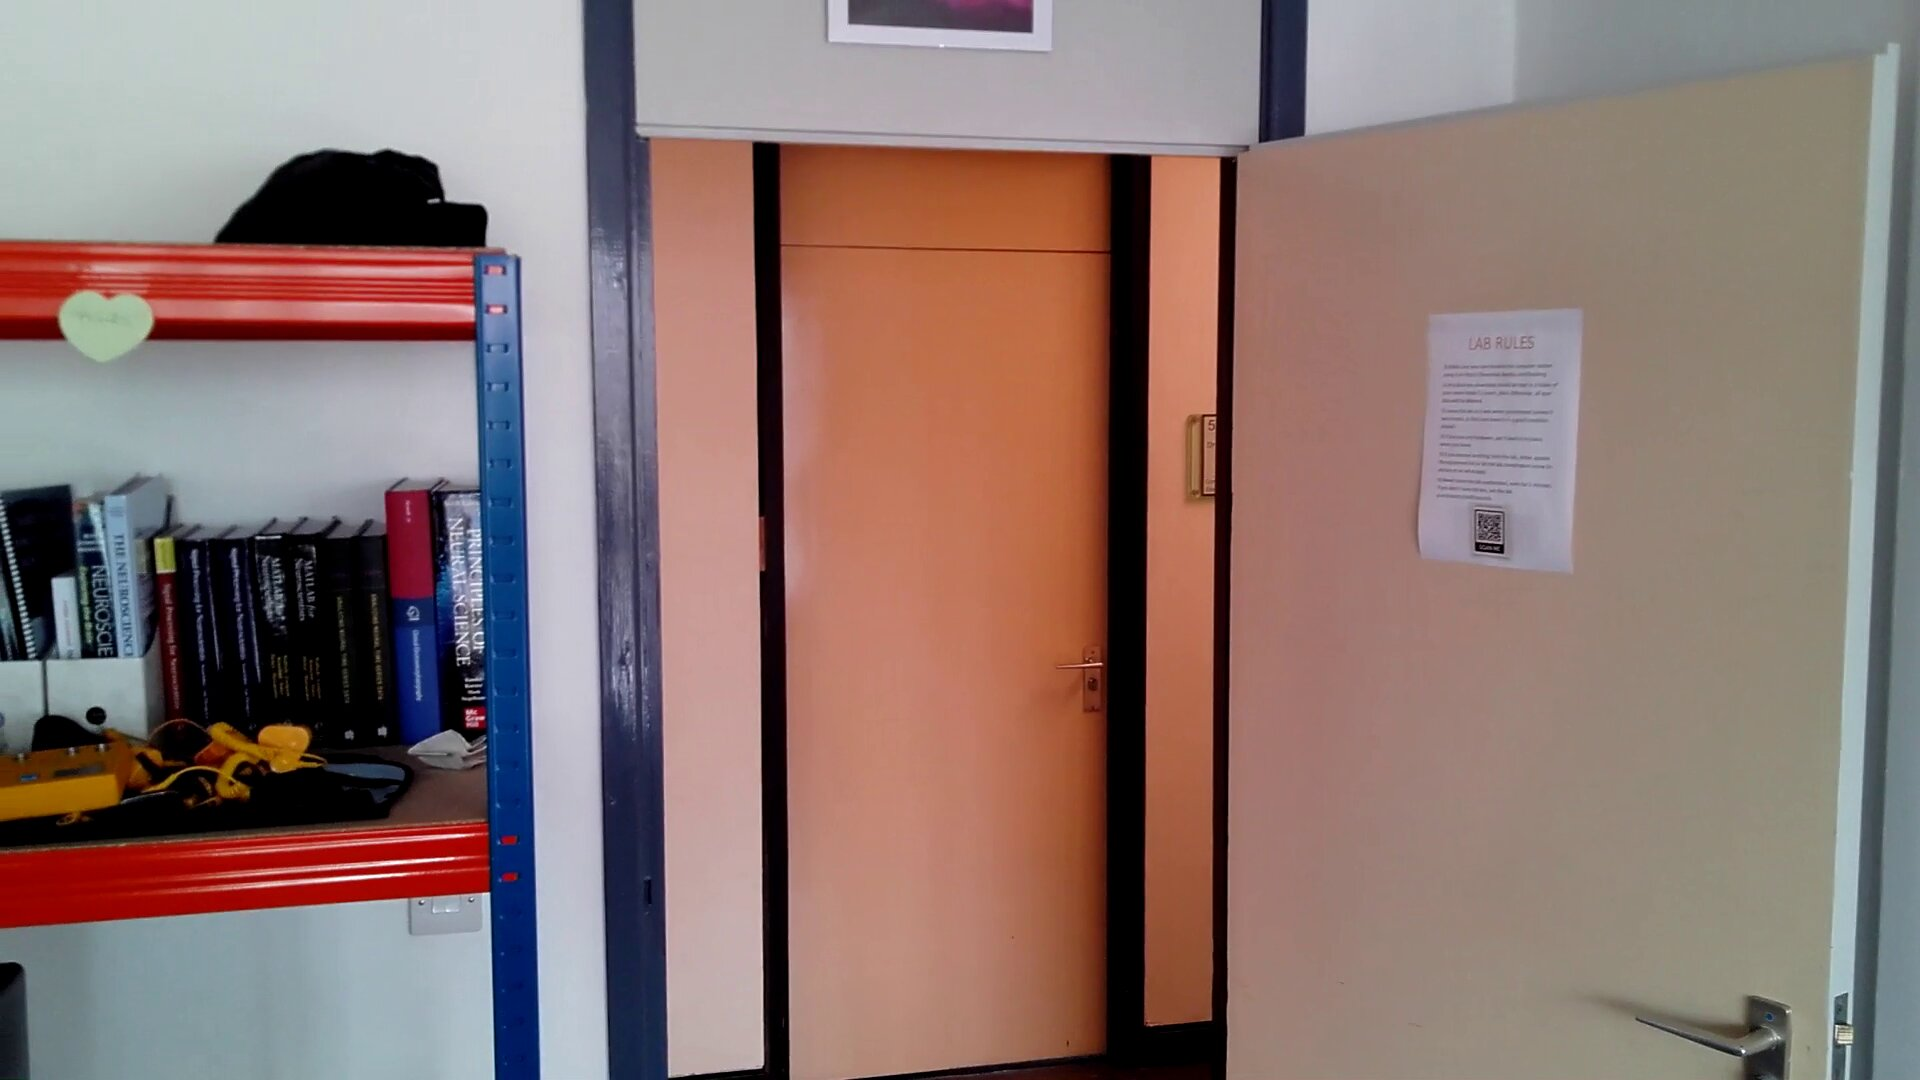Door: (1224, 127, 1908, 1080), (744, 235, 1154, 1073)
